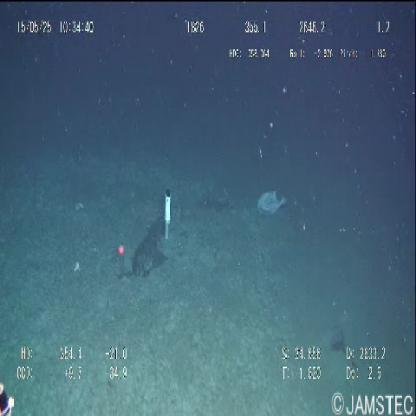Rác: (256, 189, 286, 219)
